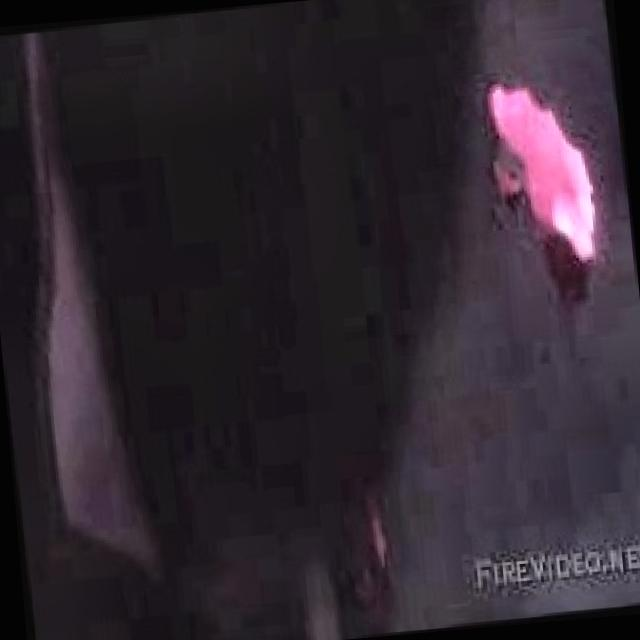fire: (441, 14, 638, 299)
